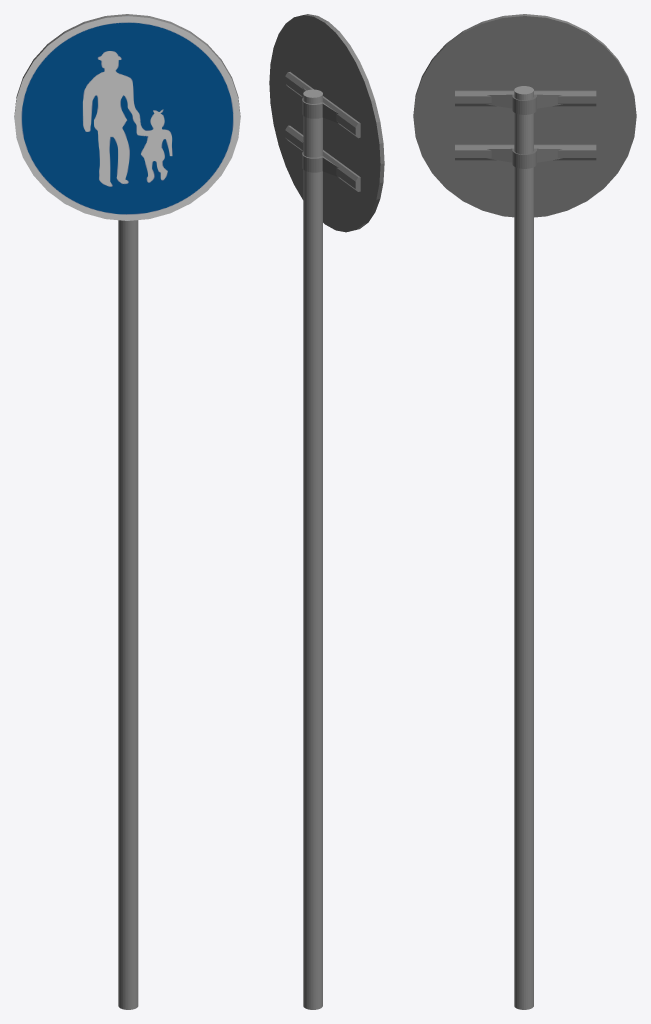
3 views of the same model, side by side, from view 1: azimuth 90°, elevation 25°; view 2: azimuth 210°, elevation 25°; view 3: azimuth 270°, elevation 25° (orthographic).
Visible parts, largest first — view 1: 023, Prop; view 2: Prop, 023; view 3: 023, Prop.
Boxes of the visible parts, <box> form: 023: <box>14,14,240,220</box>; Prop: <box>118,220,138,1009</box>; Prop: <box>285,72,360,1009</box>; 023: <box>269,14,384,232</box>; 023: <box>413,14,636,217</box>; Prop: <box>455,86,596,1009</box>.
Size of the model in its own units: 6.76 by 253 by 52.01.
